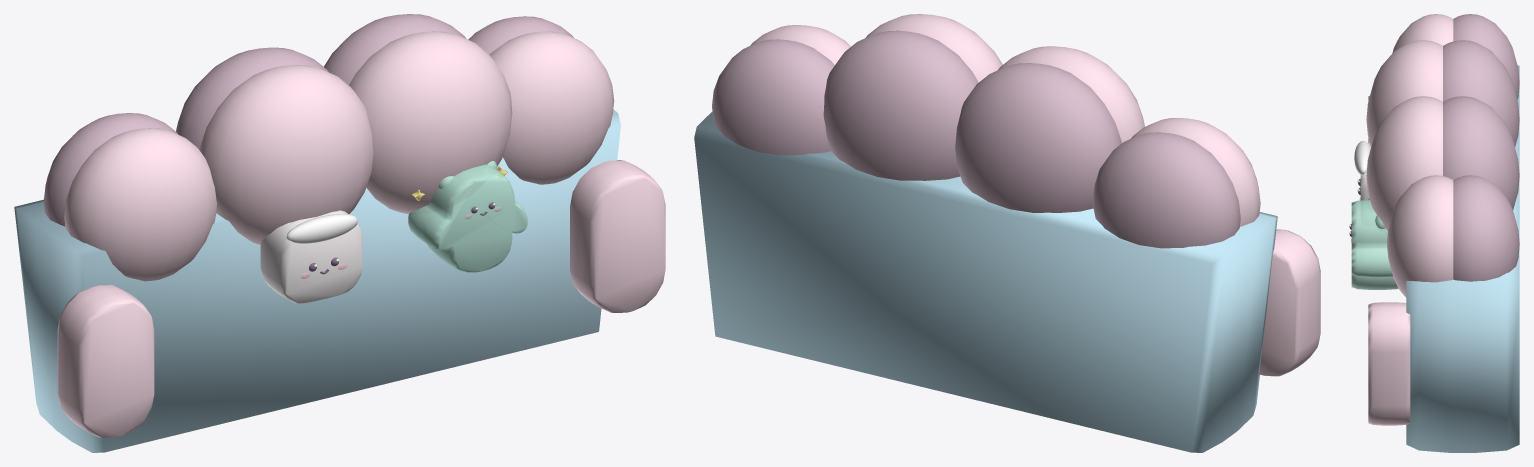
The model's file is decor_1_classic.glb.
3 renders of one model, left to right at view 1: azimuth 30°, elevation 25°; view 2: azimuth 150°, elevation 25°; view 3: azimuth 270°, elevation 25°, orthographic. The views are drawn at different scales.
Visible parts, largest first — view 1: decor_1_classic; view 2: decor_1_classic; view 3: decor_1_classic.
Part boxes in pixels (<box>): decor_1_classic: <box>14,14,665,452</box>; decor_1_classic: <box>694,14,1320,452</box>; decor_1_classic: <box>1351,14,1519,452</box>.
Bounding box in the file's own units: 21.38 × 11.65 × 6.43.
